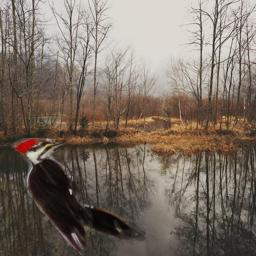Woodpecker: (11, 138, 146, 255)
